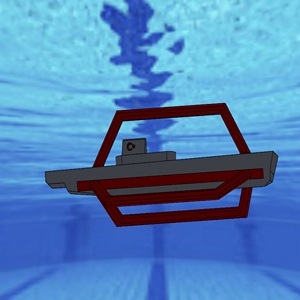submarine: (30, 73, 296, 242)
